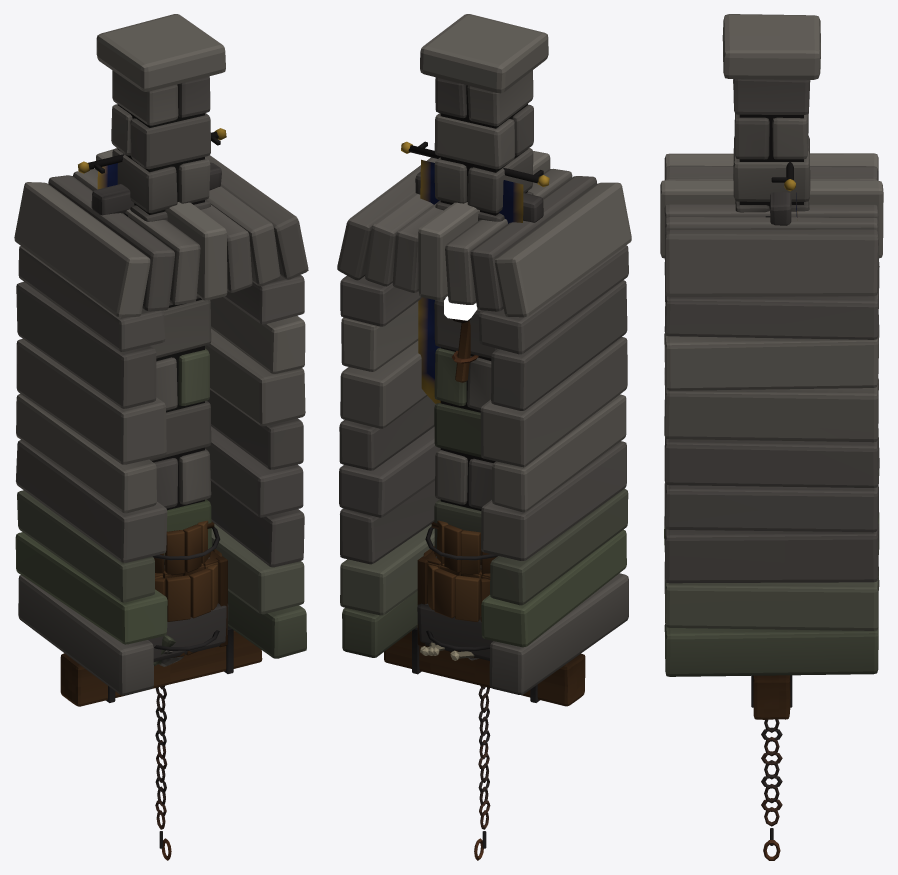
File: verlies3d.glb
The picture shows the model from 3 angles, left to right: view 1: azimuth 30°, elevation 25°; view 2: azimuth 150°, elevation 25°; view 3: azimuth 270°, elevation 25°; orthographic projection.
Parts seen in each view (by area): view 1: verlies3d_tuer, verlies3d_pfeiler, verlies3d_fass, verlies3d_balken, verlies3d_kette, verlies3d_fenster, verlies3d_banner_blau, verlies3d_kiste; view 2: verlies3d_tuer, verlies3d_pfeiler, verlies3d_fass, verlies3d_balken, verlies3d_banner_blau, verlies3d_kette, verlies3d_kiste, verlies3d_fackel, verlies3d_fenster; view 3: verlies3d_tuer, verlies3d_pfeiler, verlies3d_balken, verlies3d_kette, verlies3d_fenster.
Part boxes in pixels (bbox=[...]): verlies3d_tuer: bbox=[14, 149, 308, 695]; verlies3d_pfeiler: bbox=[96, 14, 228, 661]; verlies3d_fass: bbox=[152, 520, 221, 657]; verlies3d_balken: bbox=[60, 626, 262, 706]; verlies3d_kette: bbox=[155, 685, 171, 860]; verlies3d_fenster: bbox=[91, 162, 221, 216]; verlies3d_banner_blau: bbox=[78, 128, 226, 189]; verlies3d_kiste: bbox=[155, 551, 227, 647]; verlies3d_tuer: bbox=[337, 151, 631, 694]; verlies3d_pfeiler: bbox=[417, 14, 548, 660]; verlies3d_fass: bbox=[423, 520, 497, 658]; verlies3d_balken: bbox=[384, 627, 585, 706]; verlies3d_banner_blau: bbox=[401, 141, 549, 403]; verlies3d_kette: bbox=[474, 685, 490, 860]; verlies3d_kiste: bbox=[417, 551, 490, 646]; verlies3d_fackel: bbox=[452, 318, 478, 382]; verlies3d_fenster: bbox=[415, 172, 543, 222]; verlies3d_tuer: bbox=[660, 153, 883, 676]; verlies3d_pfeiler: bbox=[722, 14, 820, 212]; verlies3d_balken: bbox=[751, 675, 792, 719]; verlies3d_kette: bbox=[761, 719, 782, 860]; verlies3d_fenster: bbox=[765, 192, 791, 225].
Bounding box in the file's own units: 1.46 × 5.98 × 1.46.
